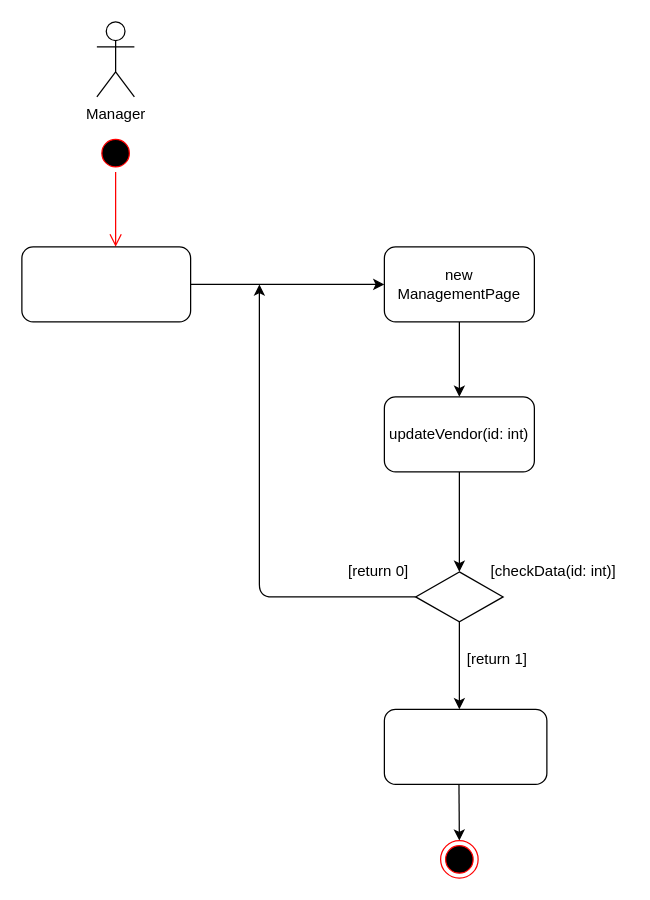
The diagram is 650 pixels wide and 900 high, and some of its shapes have lost their labels. The centre of each missing label's shape, as x and y in pixels:
"modifyVendorByID(id: int)" belongs at (x=465, y=746).
"onUpdateButtonClick()" belongs at (x=106, y=284).
